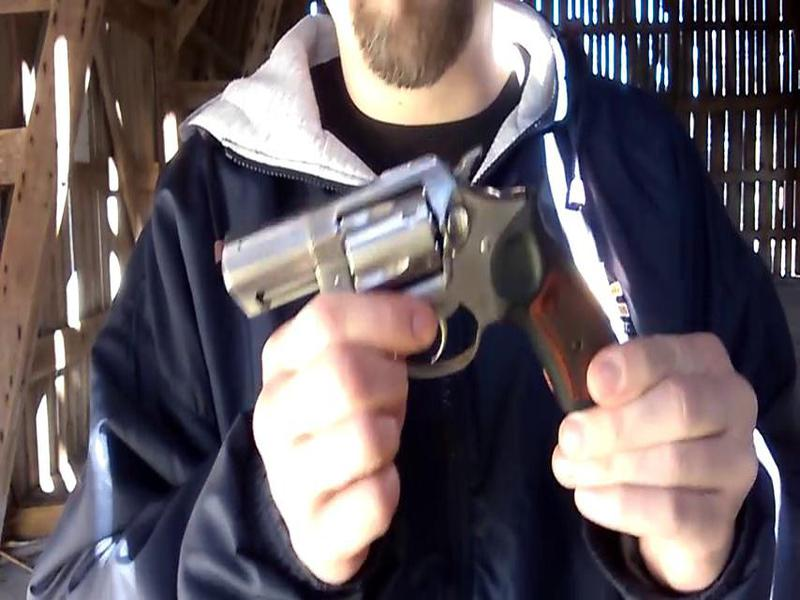Revolver: (191, 159, 599, 404)
